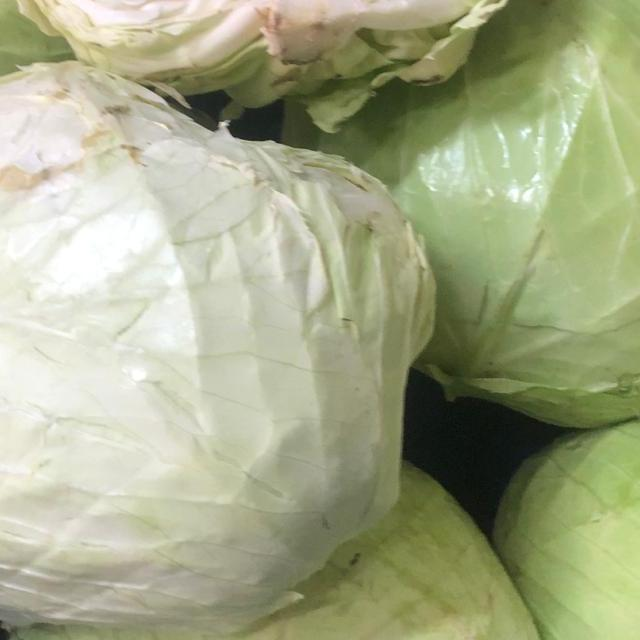cabbage: (0, 40, 450, 640), (0, 0, 560, 115)
